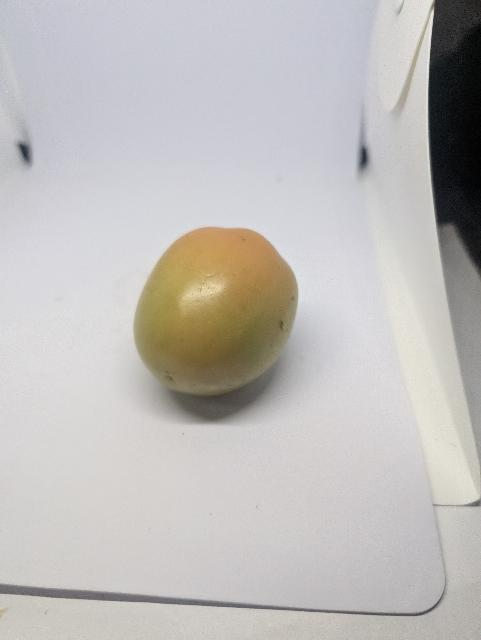breaker: (123, 220, 319, 403)
